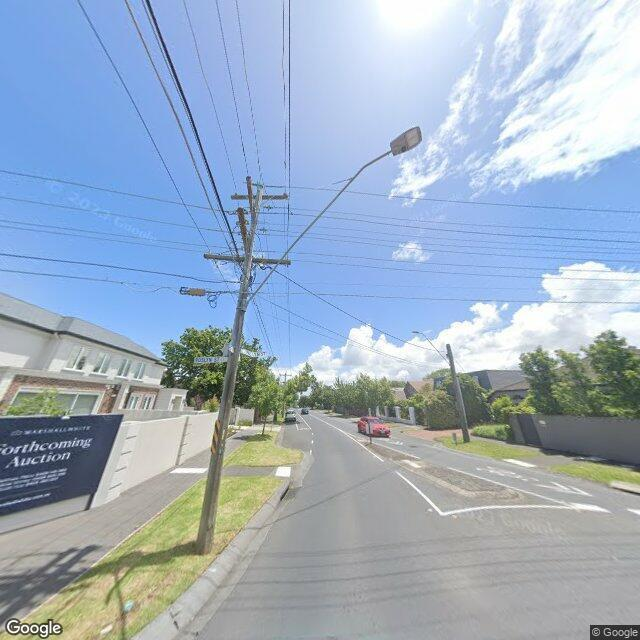crossarm: (205, 248, 292, 271), (228, 207, 250, 256), (231, 192, 289, 200), (246, 176, 256, 222), (280, 374, 292, 376)
streetlight: (245, 126, 423, 312), (412, 330, 450, 366)
timber-pole: (194, 184, 264, 556), (446, 343, 470, 443), (284, 373, 286, 385)
